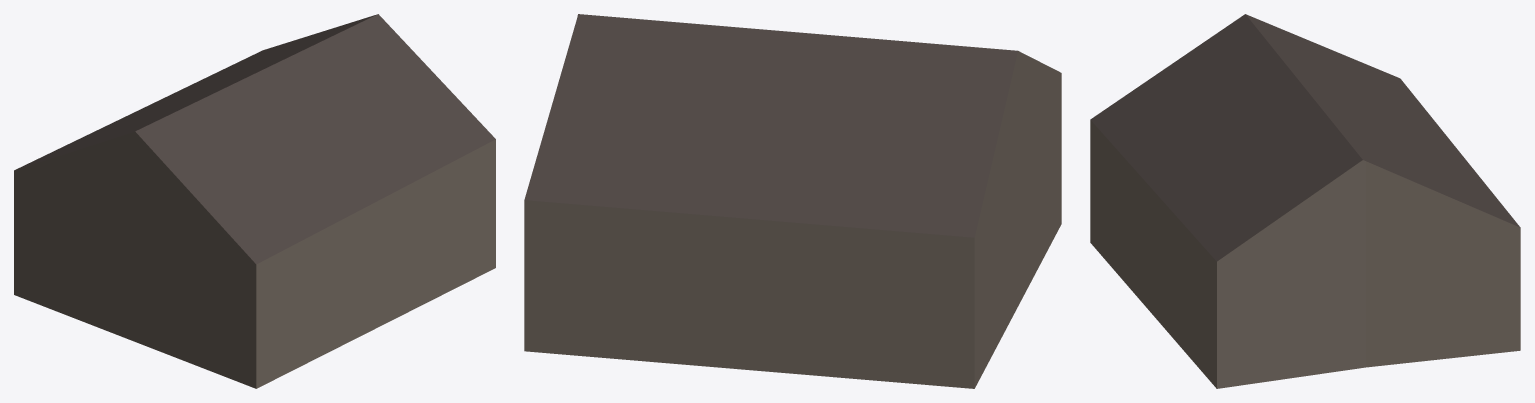
3 views of the same model, side by side, from view 1: azimuth 30°, elevation 25°; view 2: azimuth 150°, elevation 25°; view 3: azimuth 270°, elevation 25° (orthographic). The views are drawn at different scales.
Visible parts, largest first — view 1: HP-w1198842485; view 2: HP-w1198842485; view 3: HP-w1198842485.
Part boxes in pixels (left/top/right/bottom): HP-w1198842485: left=14, top=14, right=495, bottom=388; HP-w1198842485: left=524, top=14, right=1061, bottom=388; HP-w1198842485: left=1090, top=14, right=1520, bottom=388.
Bounding box in the file's own units: 19.63 × 10.15 × 19.04.
